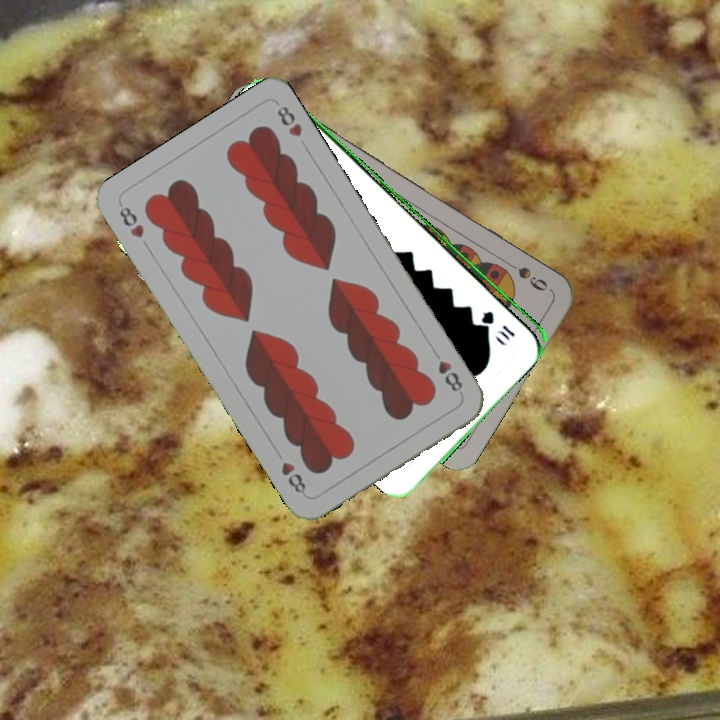G10: (479, 306, 518, 340)
H8: (428, 345, 466, 395), (115, 200, 147, 241)
S9: (499, 255, 551, 294)
